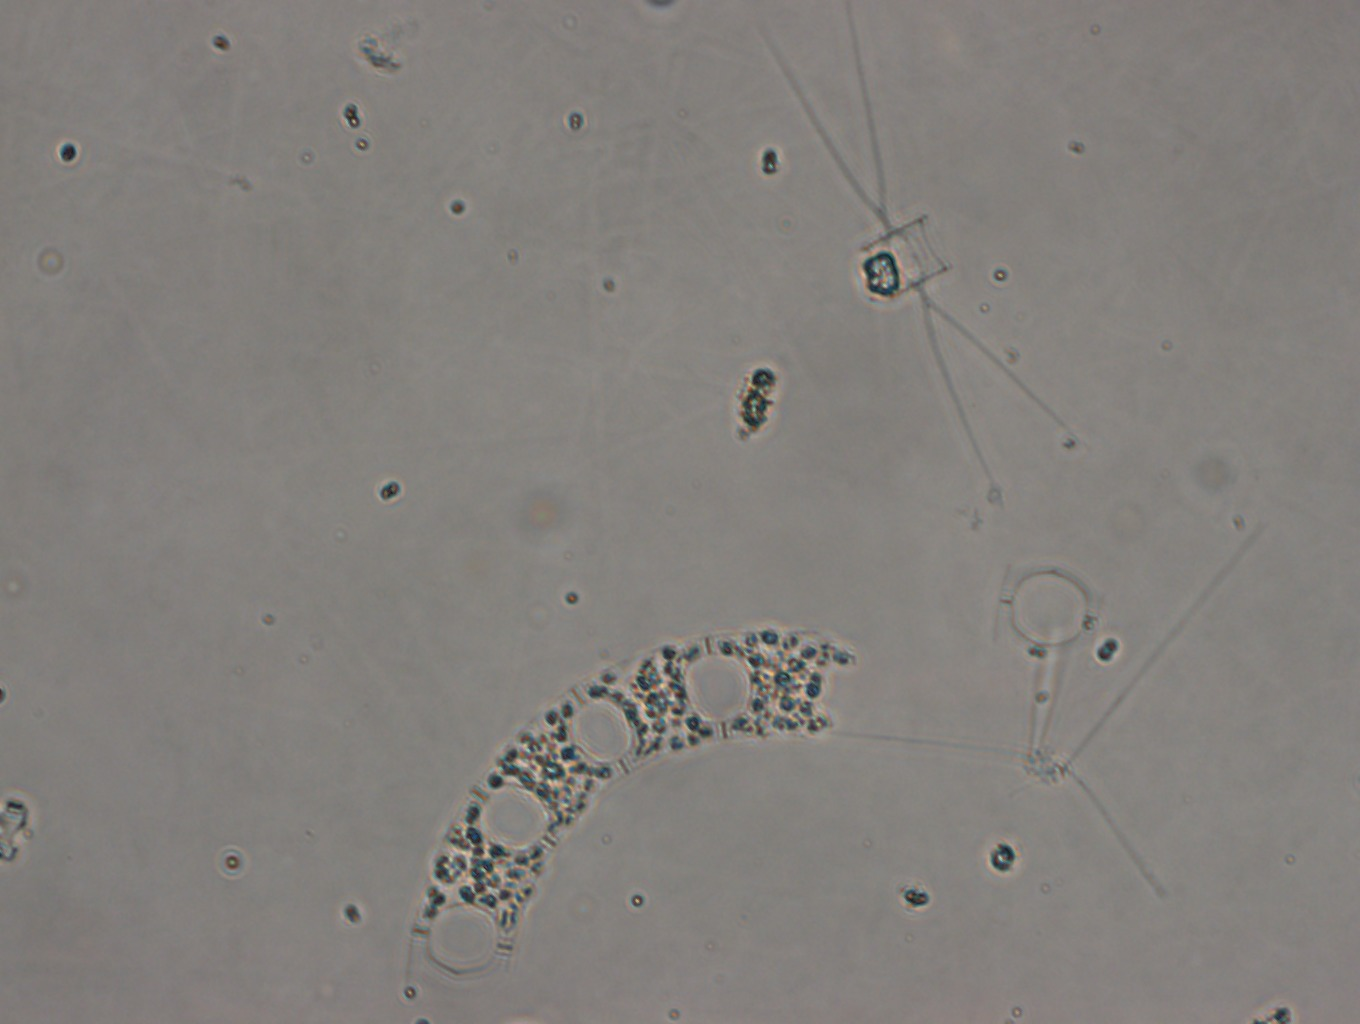chaetoceros: (768, 6, 1056, 478)
eucampia: (393, 620, 870, 985)
